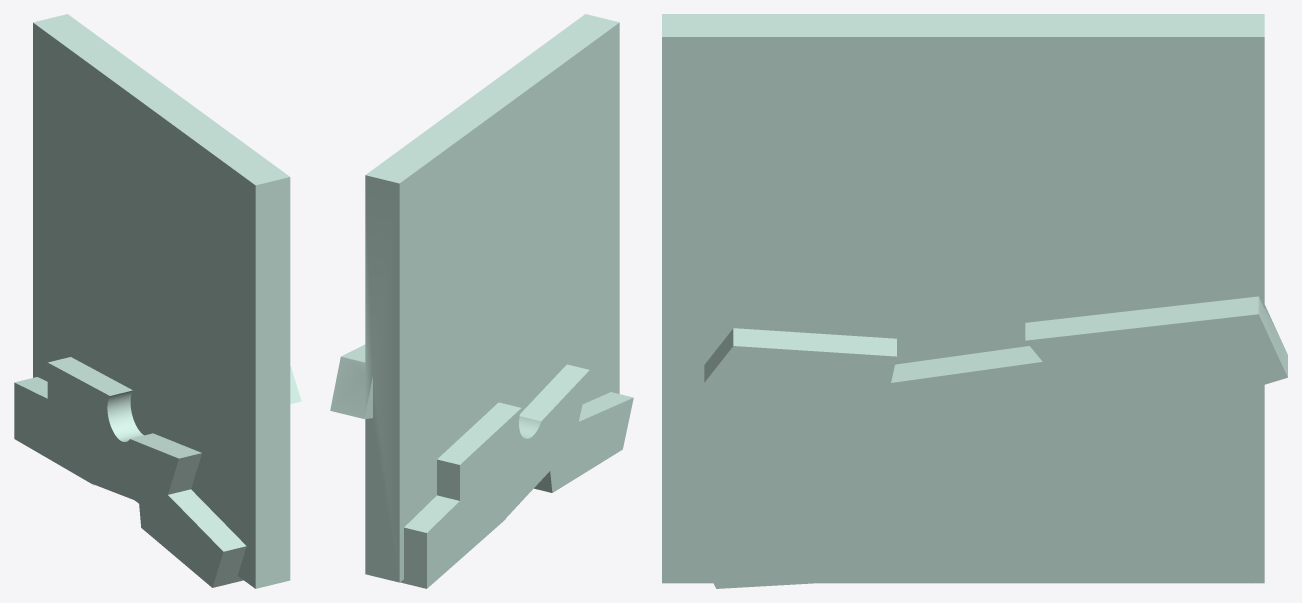
3 views of the same model, side by side, from view 1: azimuth 30°, elevation 25°; view 2: azimuth 150°, elevation 25°; view 3: azimuth 270°, elevation 25° (orthographic). The views are drawn at different scales.
Visible parts, largest first — view 1: Renderer Node; view 2: Renderer Node; view 3: Renderer Node.
Part boxes in pixels (x1,y1,x2,y2): Renderer Node: [14, 14, 301, 588]; Renderer Node: [330, 14, 633, 588]; Renderer Node: [662, 14, 1287, 588].
Size of the model in its own units: 0.1719 by 0.7969 by 0.8113.
